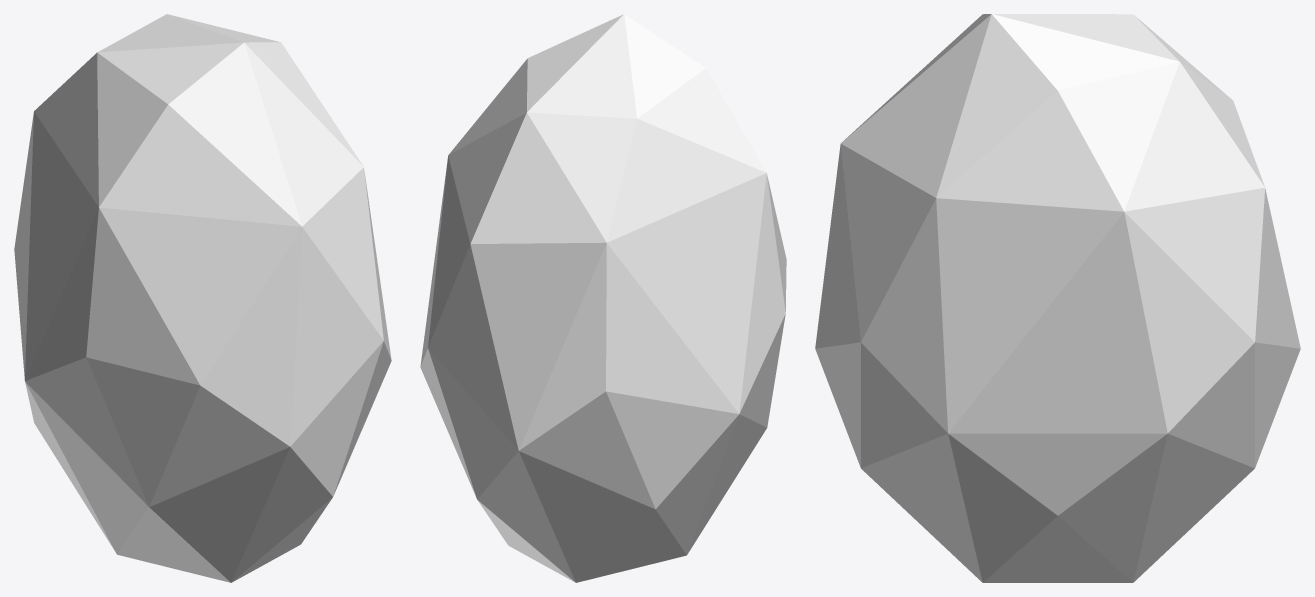
The model's file is rock 2.obj.
The picture shows the model from 3 angles, left to right: view 1: azimuth 30°, elevation 25°; view 2: azimuth 150°, elevation 25°; view 3: azimuth 270°, elevation 25°; orthographic projection. The views are drawn at different scales.
Parts seen in each view (by area): view 1: Icosphere; view 2: Icosphere; view 3: Icosphere.
Part boxes in pixels (left/top/right/bottom): Icosphere: left=14, top=14, right=391, bottom=582; Icosphere: left=420, top=14, right=786, bottom=582; Icosphere: left=815, top=14, right=1300, bottom=582.
Size of the model in its own units: 0.8857 by 1.46 by 1.19.
